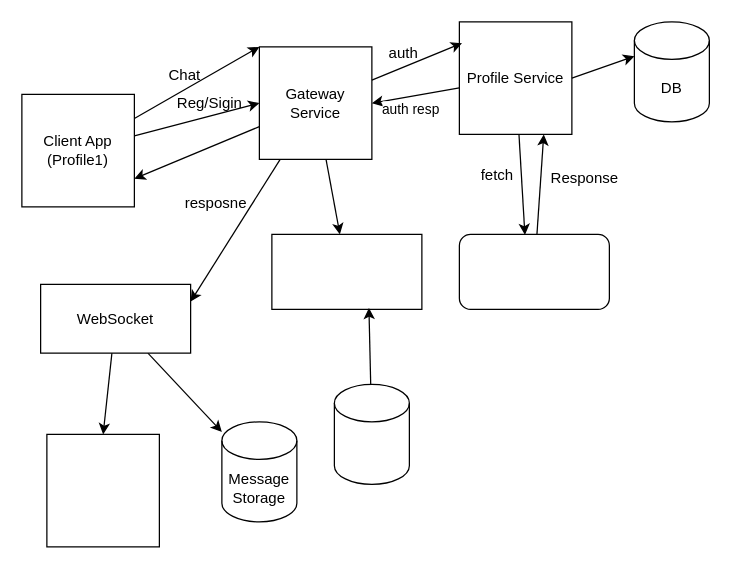
Some shapes in this 731 by 569 pixel diagram are drawn without their labels. Each missing label, with the box of its shape:
AWS S3: (458, 233, 609, 309)
Client App (Profile2): (46, 433, 159, 547)
Match Service: (271, 233, 422, 309)
